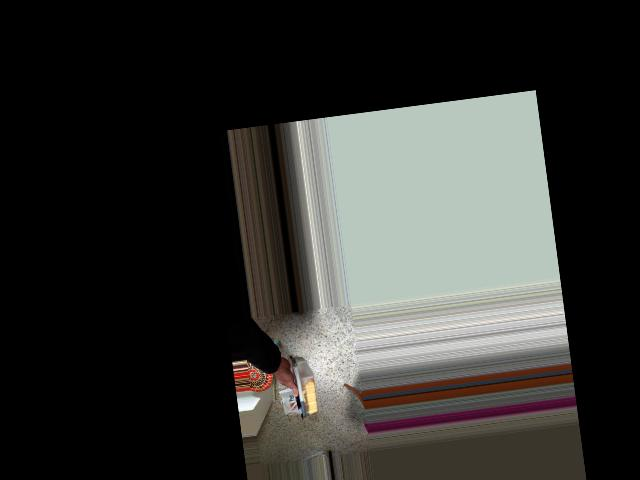cheese: (259, 340, 334, 417)
